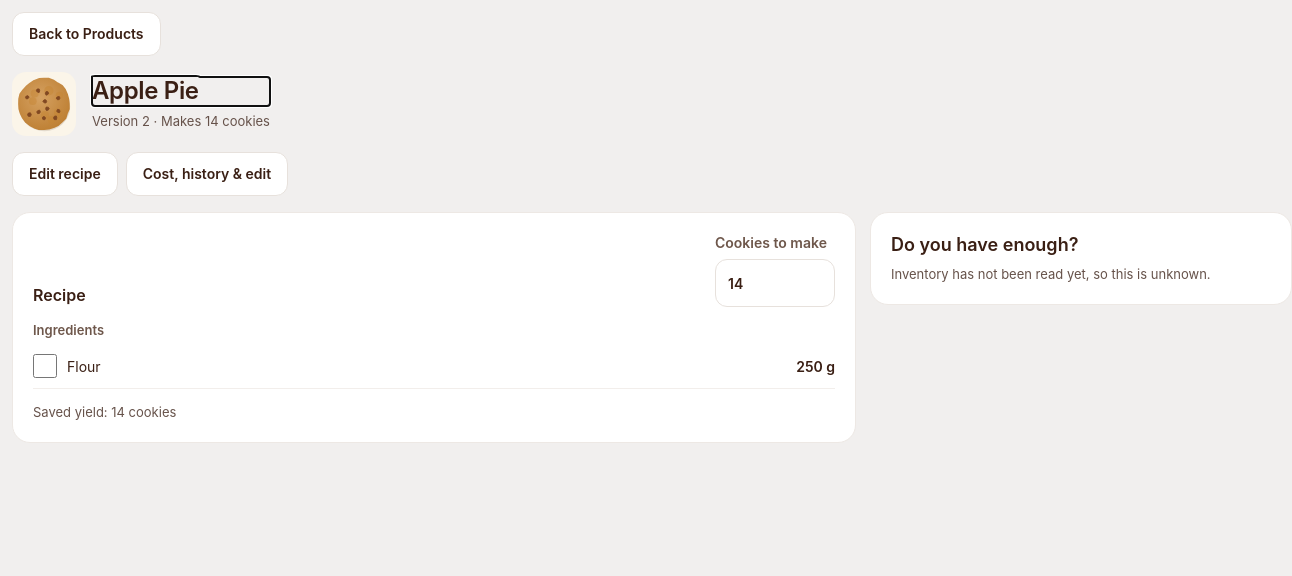
Test case: editing a recipe on its own page › puts the batch back to the saved size, so a scaled amount cannot be the base
Replace the text in the number field labelled "Cookies to make" with "28" at (775, 283), box [715,259,835,307]
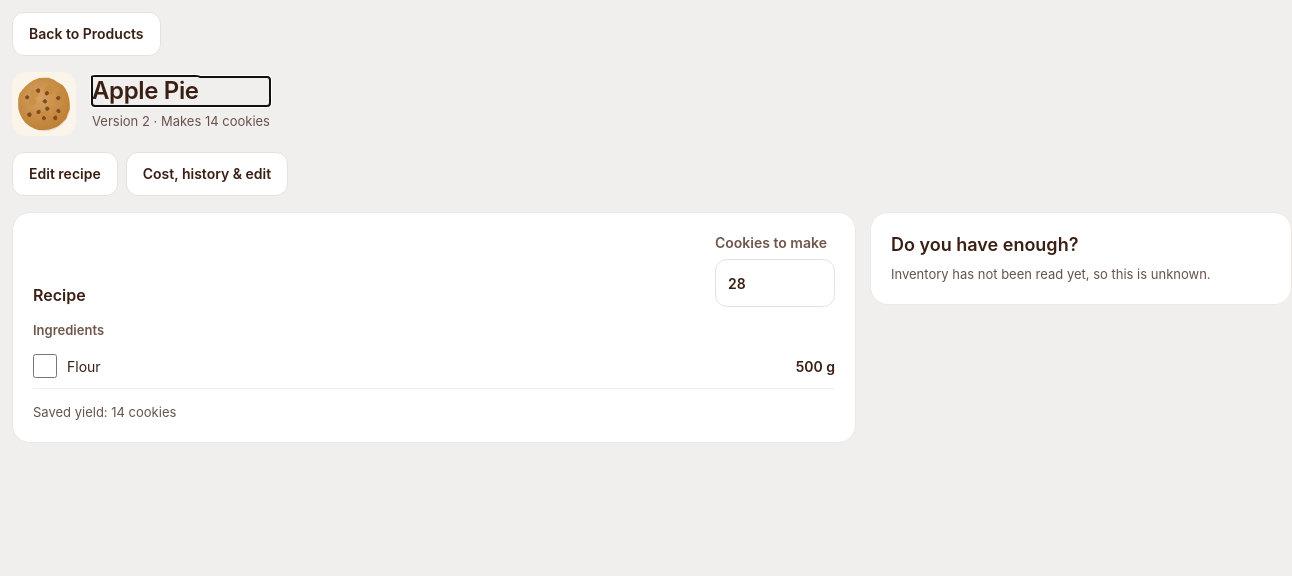
Click the button "Edit recipe" at (65, 174), box [12,152,118,196]
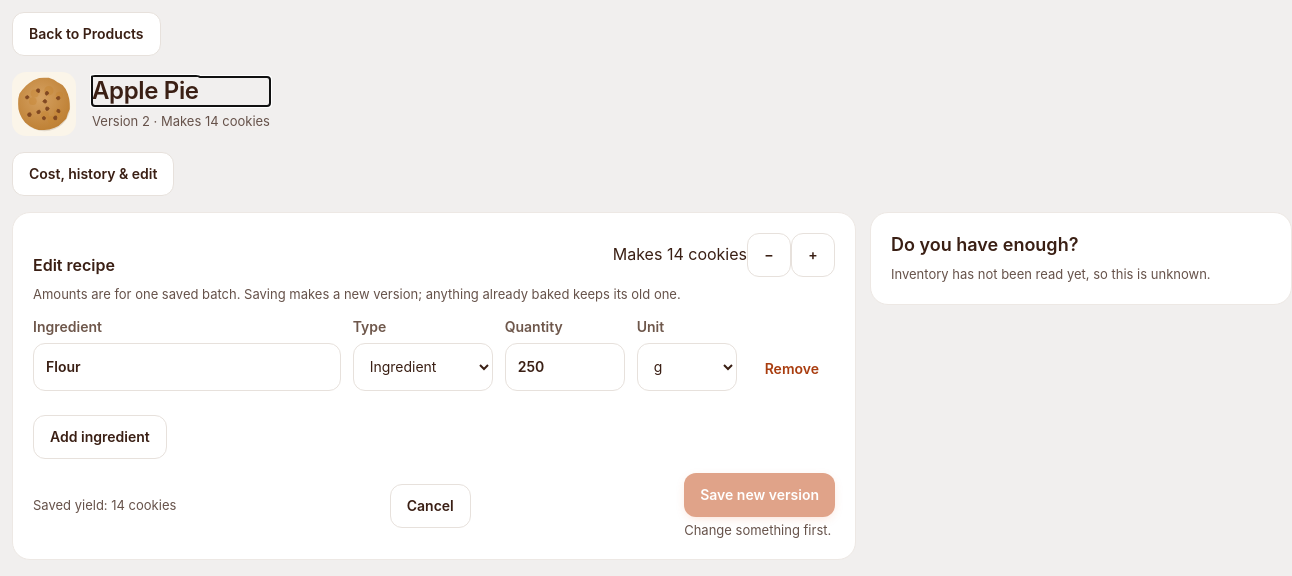
Check: the text labelled "Cookies to make" is gone
Check: the text "Amounts are for one saved batch" is shown, box [33,286,681,302]
